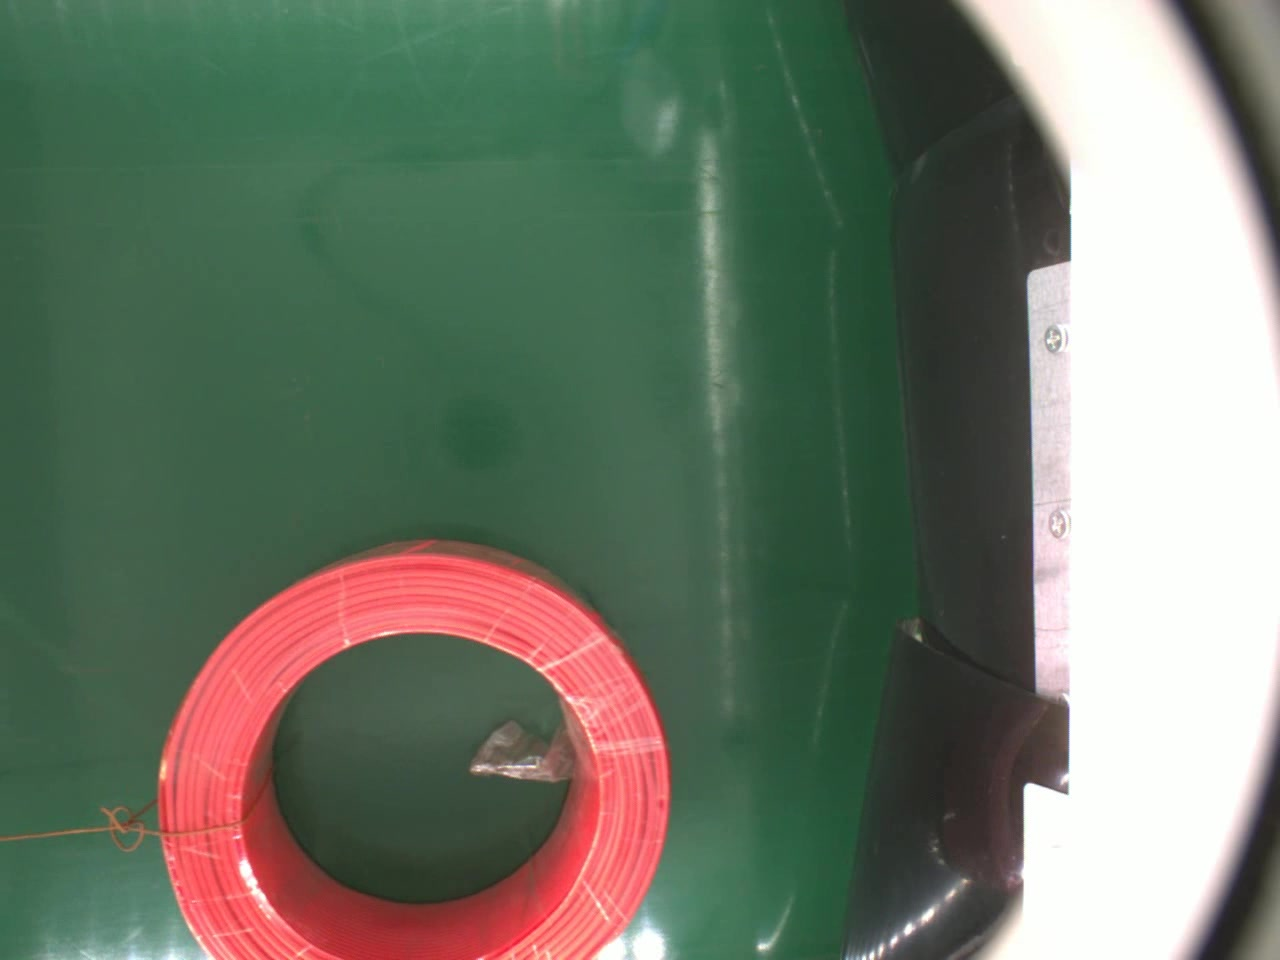red: (146, 533, 678, 960)
